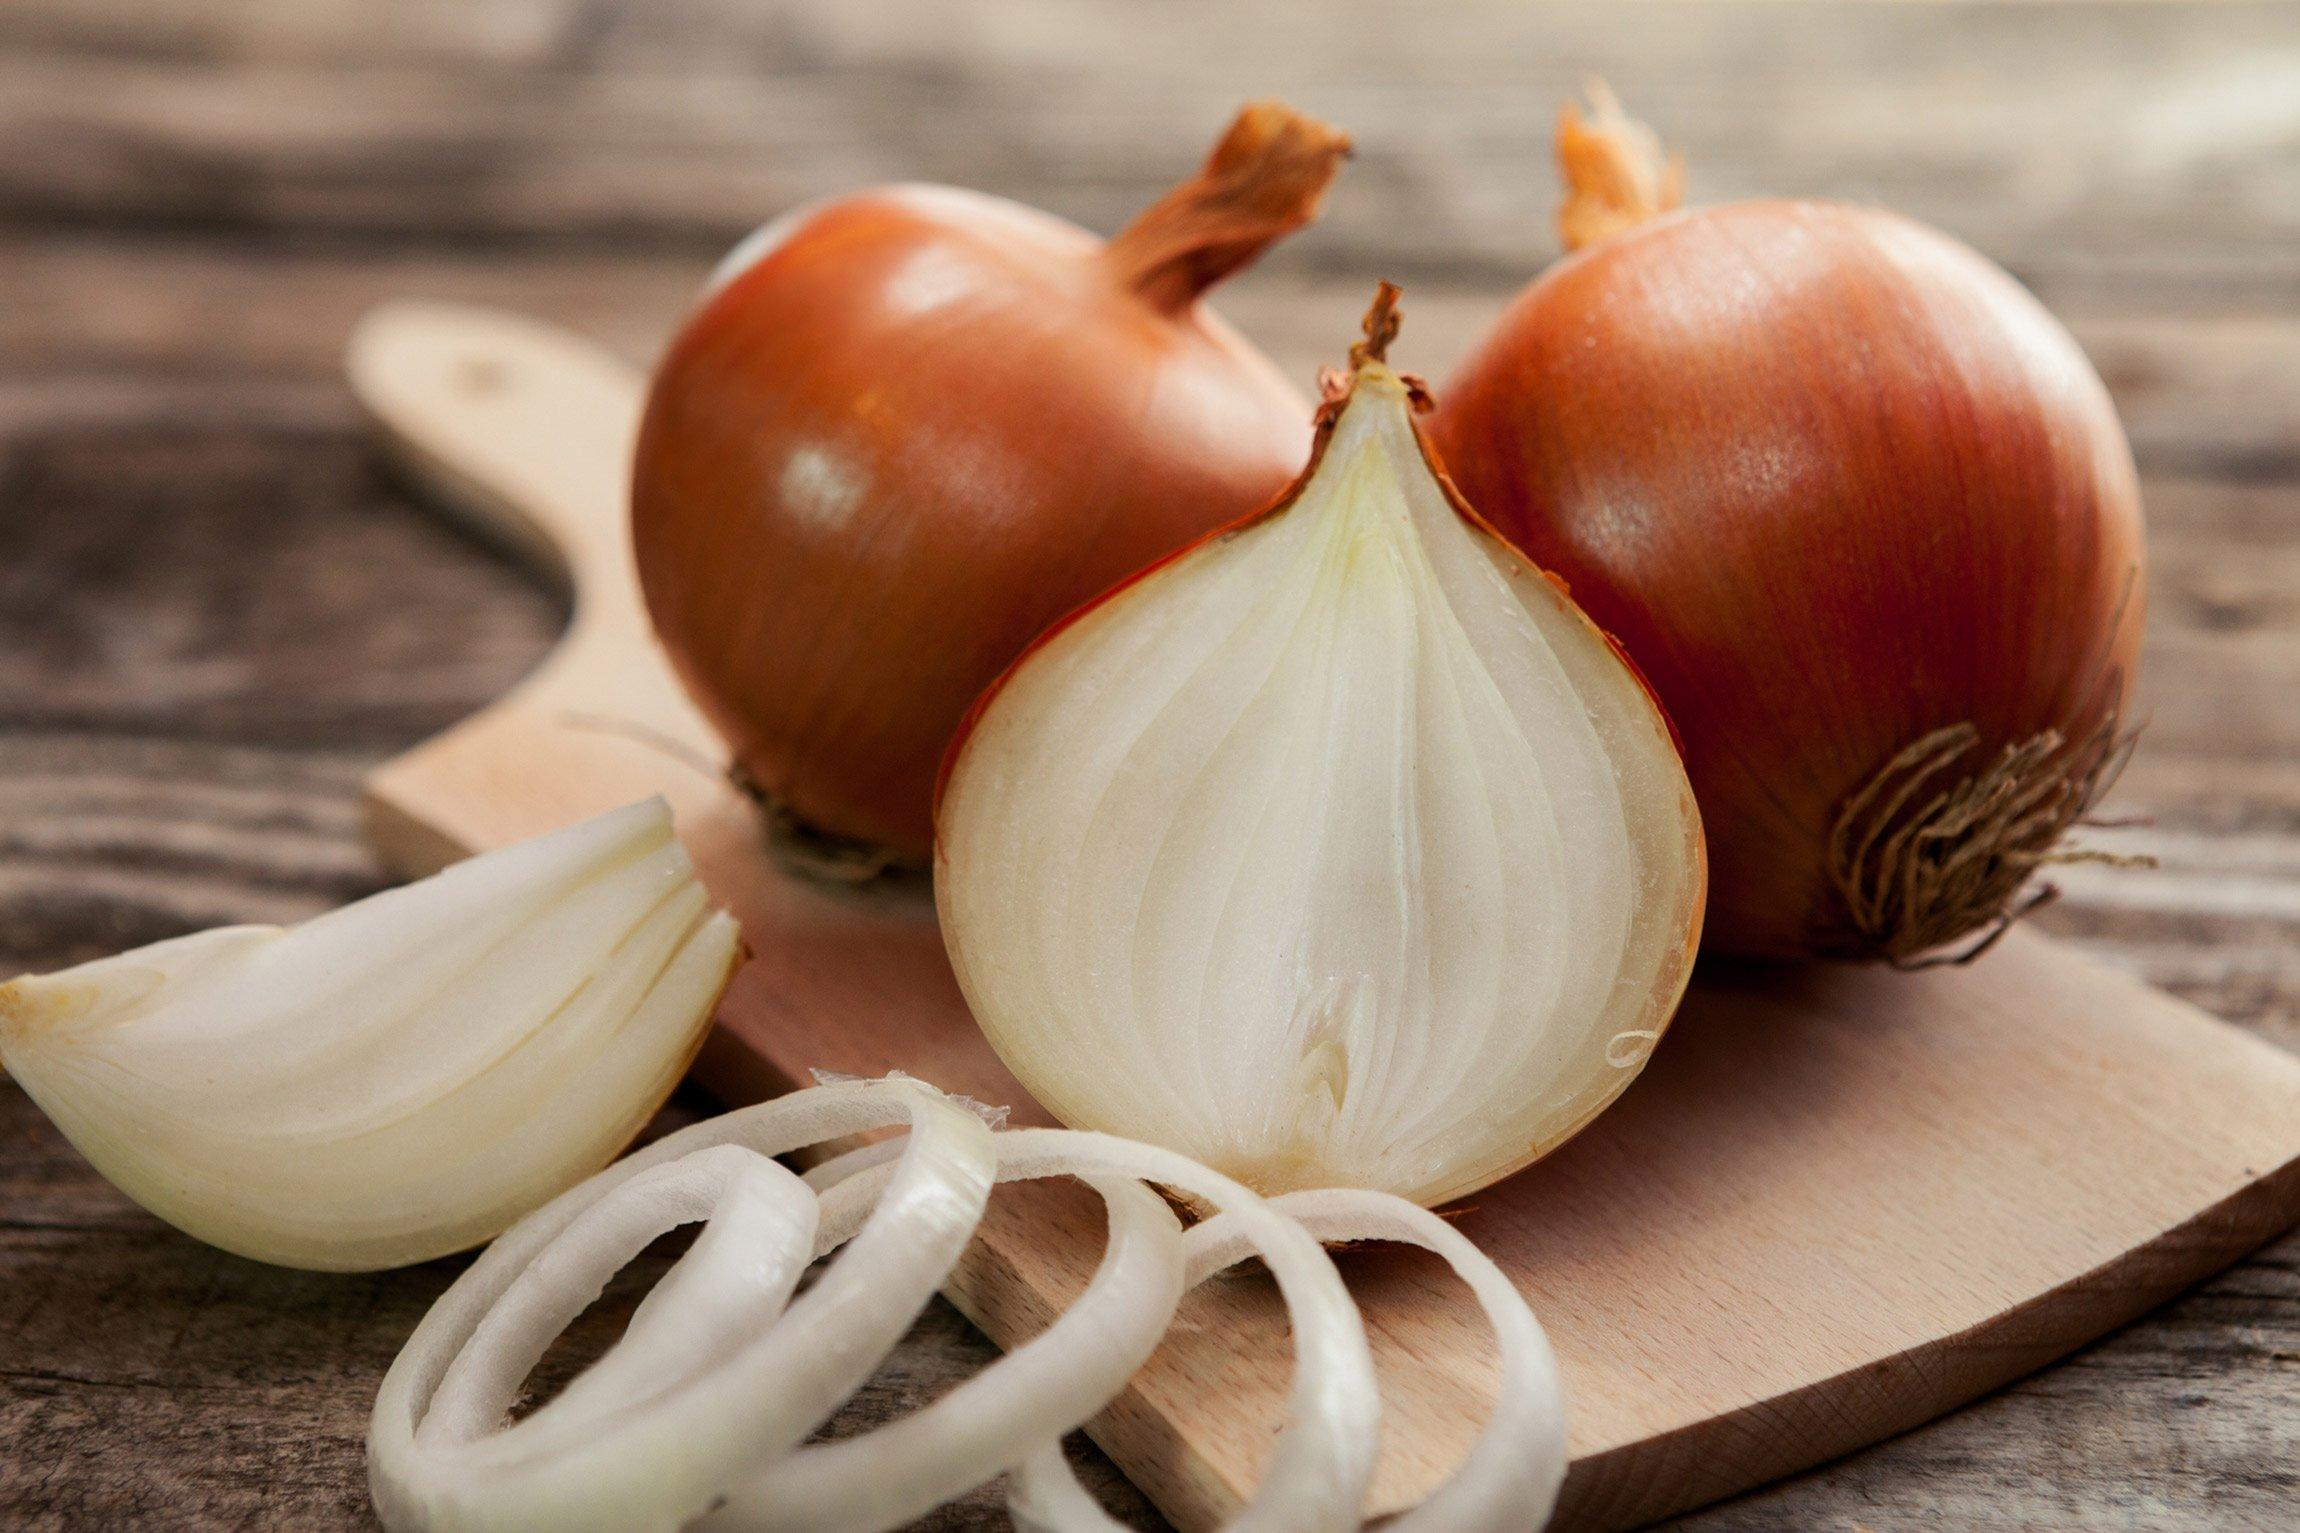onion: (927, 274, 1710, 1257), (1419, 91, 2156, 972), (625, 97, 1355, 887), (1, 791, 750, 1274)
